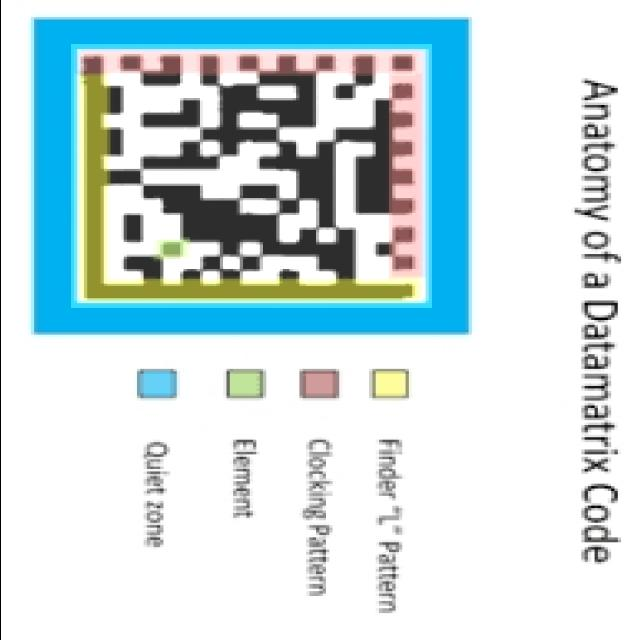DataMatrix: (70, 44, 431, 308)
